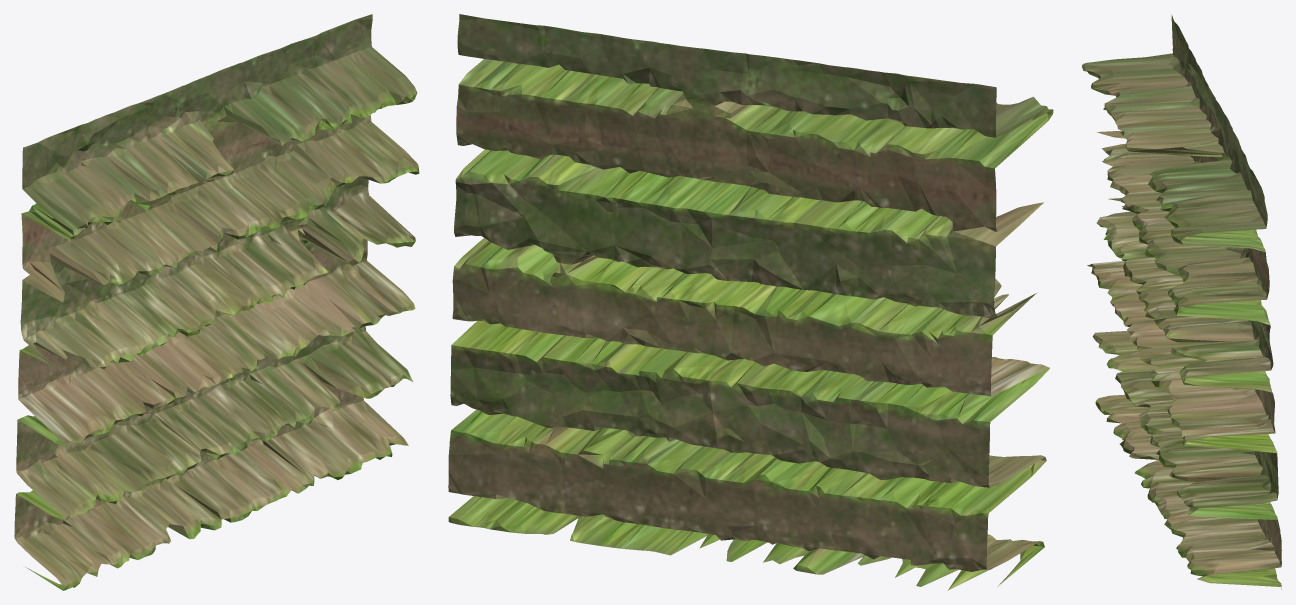
The model's file is map_230_30.obj.
3 renders of one model, left to right at view 1: azimuth 30°, elevation 25°; view 2: azimuth 150°, elevation 25°; view 3: azimuth 270°, elevation 25°, orthographic. The views are drawn at different scales.
Visible parts, largest first — view 1: grp1; view 2: grp1; view 3: grp1.
Boxes of the visible parts, x1,y1,x2,y2 form: grp1: (14, 14, 419, 590); grp1: (448, 14, 1053, 590); grp1: (1082, 15, 1281, 589).
Bounding box in the file's own units: 10 × 10 × 4.6.
1 material, 1 textured.
